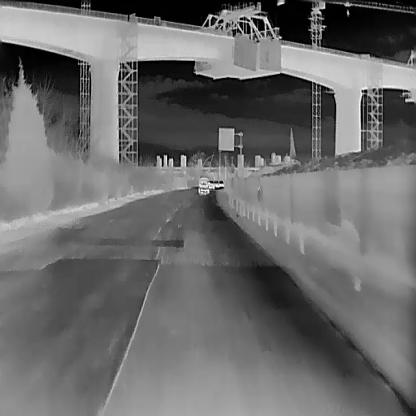car: (198, 177, 208, 195), (208, 180, 214, 188), (218, 180, 224, 186), (214, 180, 218, 188)
